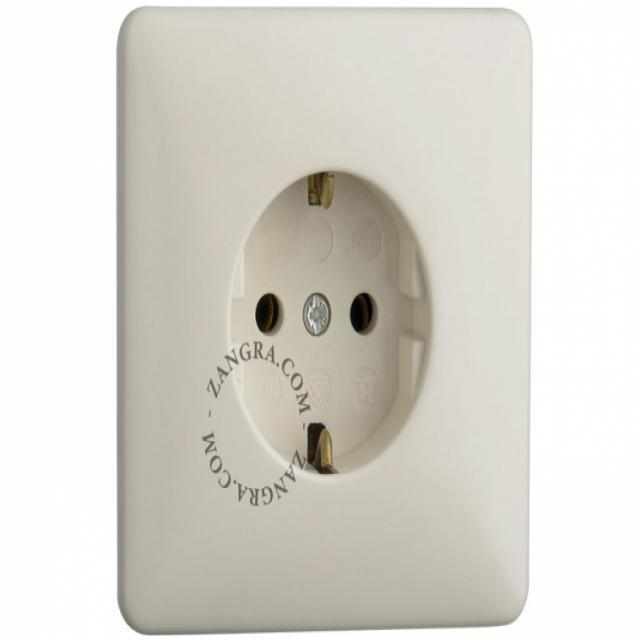typeb: (107, 2, 555, 640)
